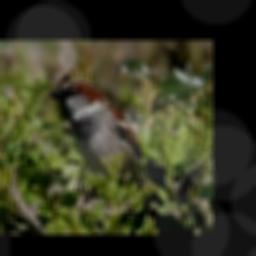Sparrow: (48, 79, 150, 187)
